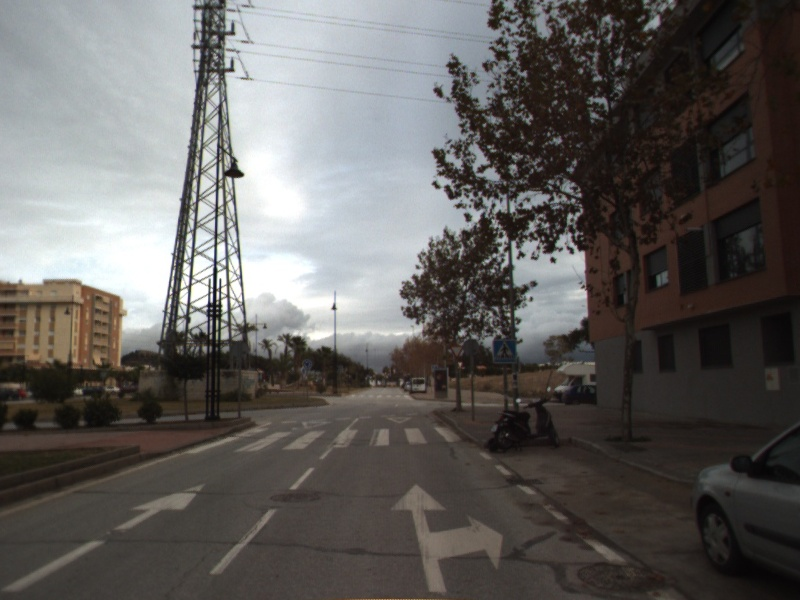STRAIGHT: (1, 481, 208, 594)
STRAIGHT_RIGHT: (389, 482, 505, 595)
